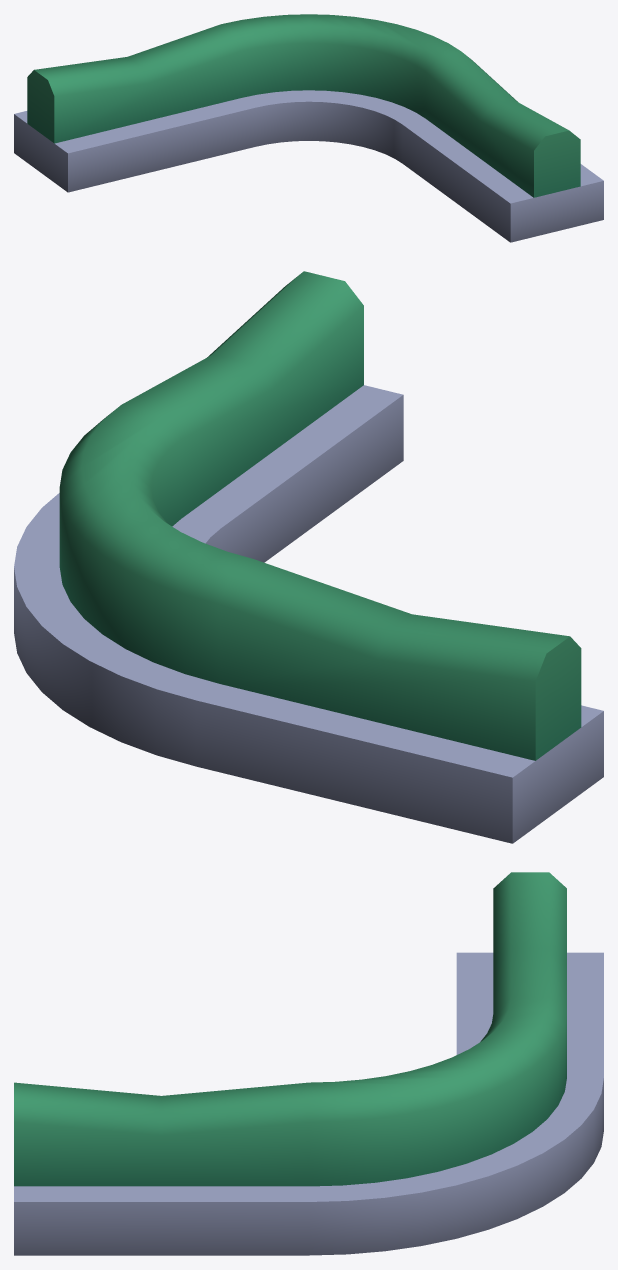
The model's file is T_hedge-curved.glb.
3 views of the same model, one above another, from view 1: azimuth 30°, elevation 25°; view 2: azimuth 150°, elevation 25°; view 3: azimuth 270°, elevation 25° (orthographic). The views are drawn at different scales.
Parts seen in each view (by area): view 1: hedge-curved; view 2: hedge-curved; view 3: hedge-curved.
Part boxes in pixels (bbox=[...]): hedge-curved: bbox=[14, 14, 603, 242]; hedge-curved: bbox=[14, 271, 603, 843]; hedge-curved: bbox=[14, 872, 603, 1255].
Size of the model in its own units: 1 by 0.25 by 1.
